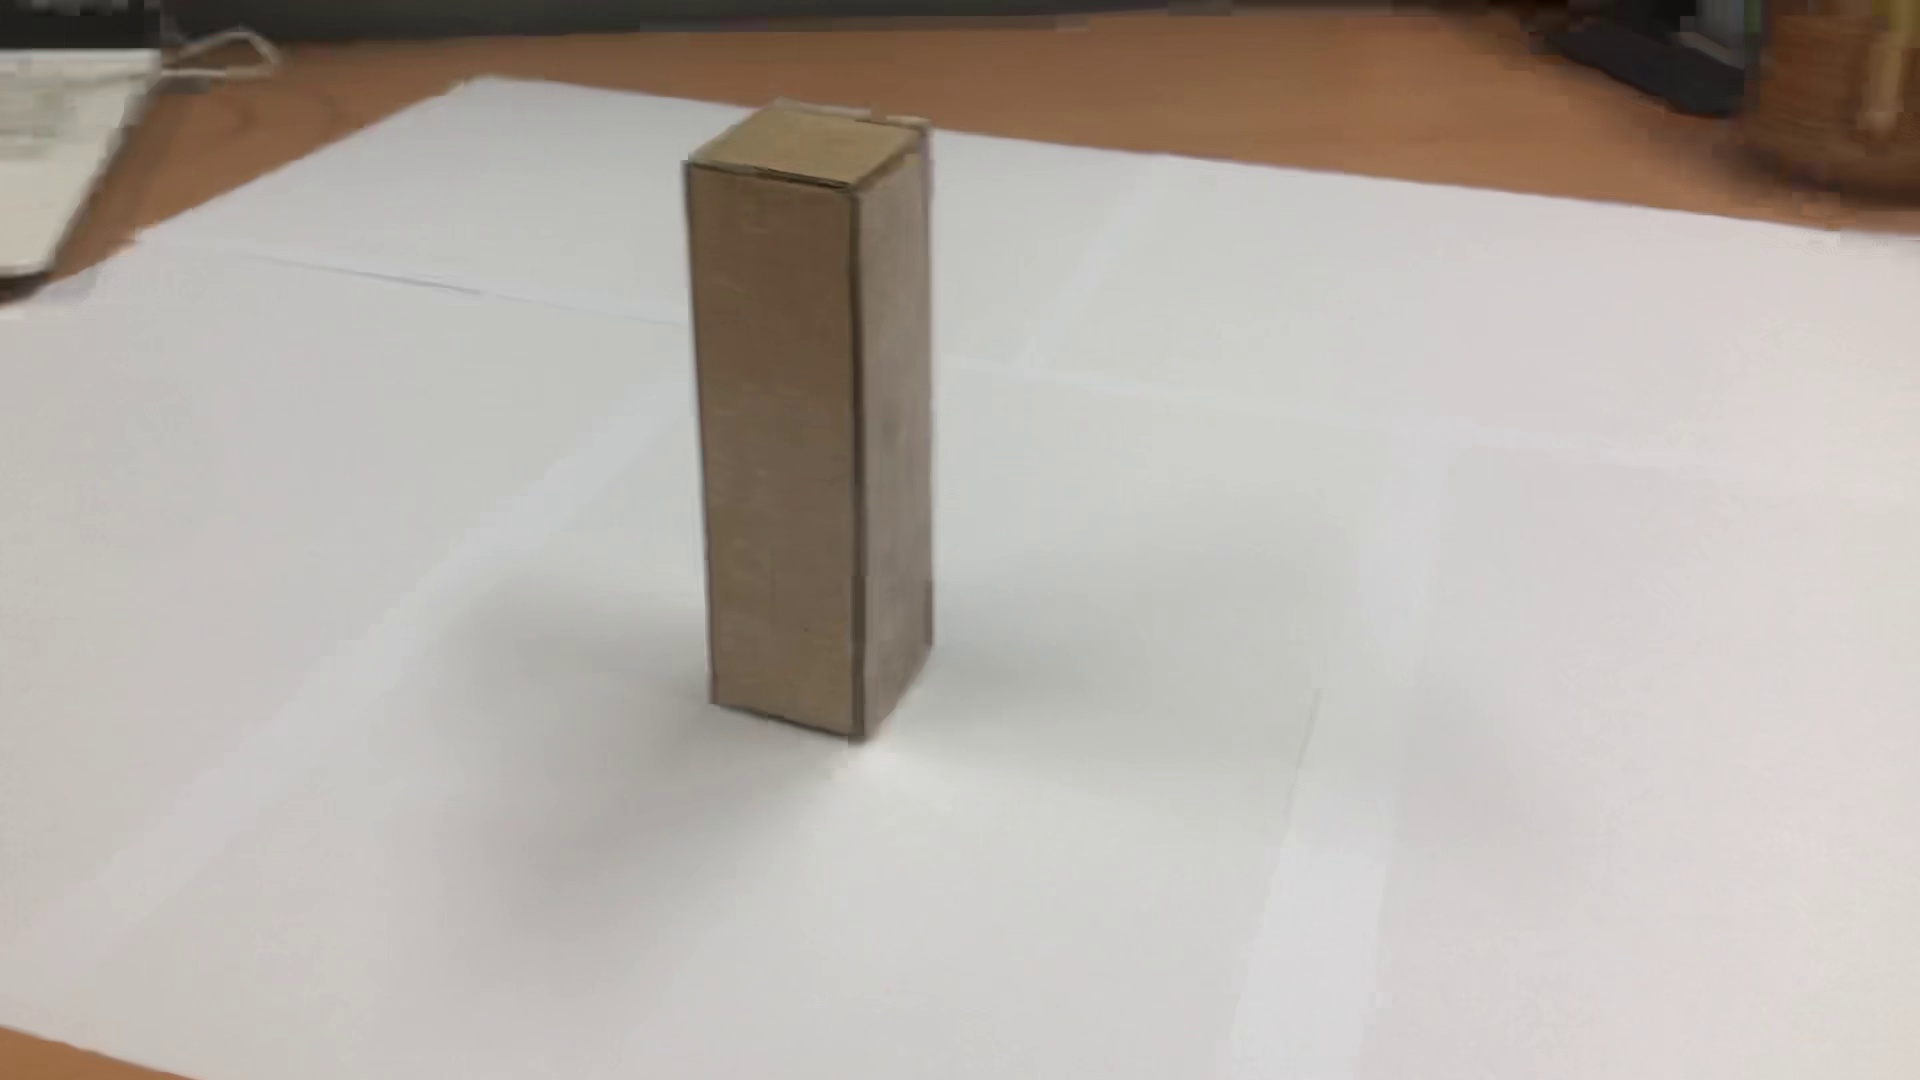box: (659, 76, 972, 760)
